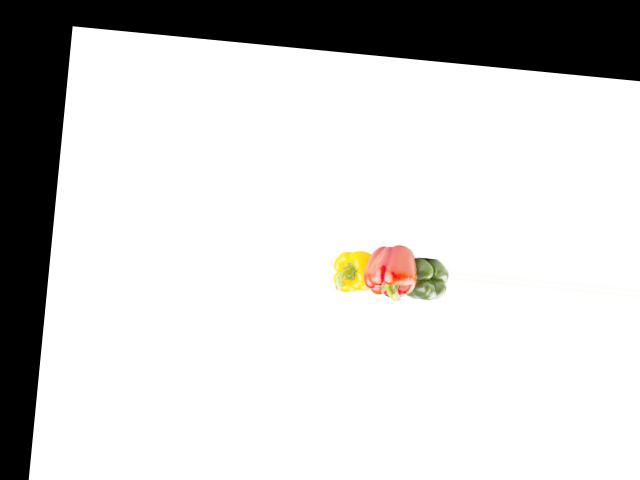bell_pepper: (328, 240, 376, 299)
